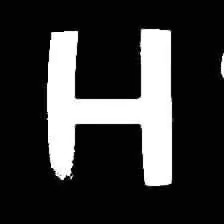LTR_H: (39, 14, 184, 187)
